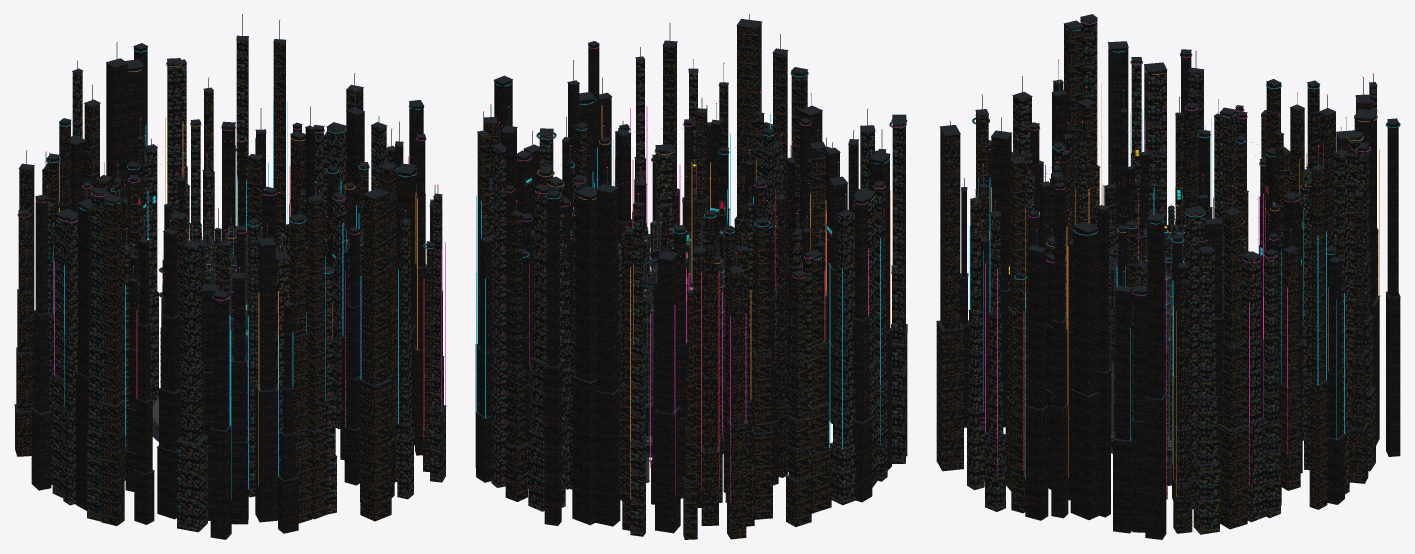
Rendered from city.glb.
3 views of the same model, side by side, from view 1: azimuth 30°, elevation 25°; view 2: azimuth 150°, elevation 25°; view 3: azimuth 270°, elevation 25° (orthographic). The views are drawn at different scales.
Parts seen in each view (by area): view 1: EXP_FAR_CITY, EXP_BUILDINGS; view 2: EXP_FAR_CITY, EXP_BUILDINGS, EXP_ROADS_INFRASTRUCTURE; view 3: EXP_FAR_CITY, EXP_BUILDINGS, EXP_ROADS_INFRASTRUCTURE.
Boxes of the visible parts, <box> form: EXP_FAR_CITY: <box>14,14,446,539</box>; EXP_BUILDINGS: <box>159,216,285,423</box>; EXP_FAR_CITY: <box>475,14,907,539</box>; EXP_BUILDINGS: <box>618,208,746,436</box>; EXP_ROADS_INFRASTRUCTURE: <box>618,231,735,435</box>; EXP_FAR_CITY: <box>936,14,1400,539</box>; EXP_BUILDINGS: <box>1109,207,1246,440</box>; EXP_ROADS_INFRASTRUCTURE: <box>1109,231,1223,432</box>.
Size of the model in its own units: 678 by 694 by 696.
Materials: 26 (24 with a texture image).
